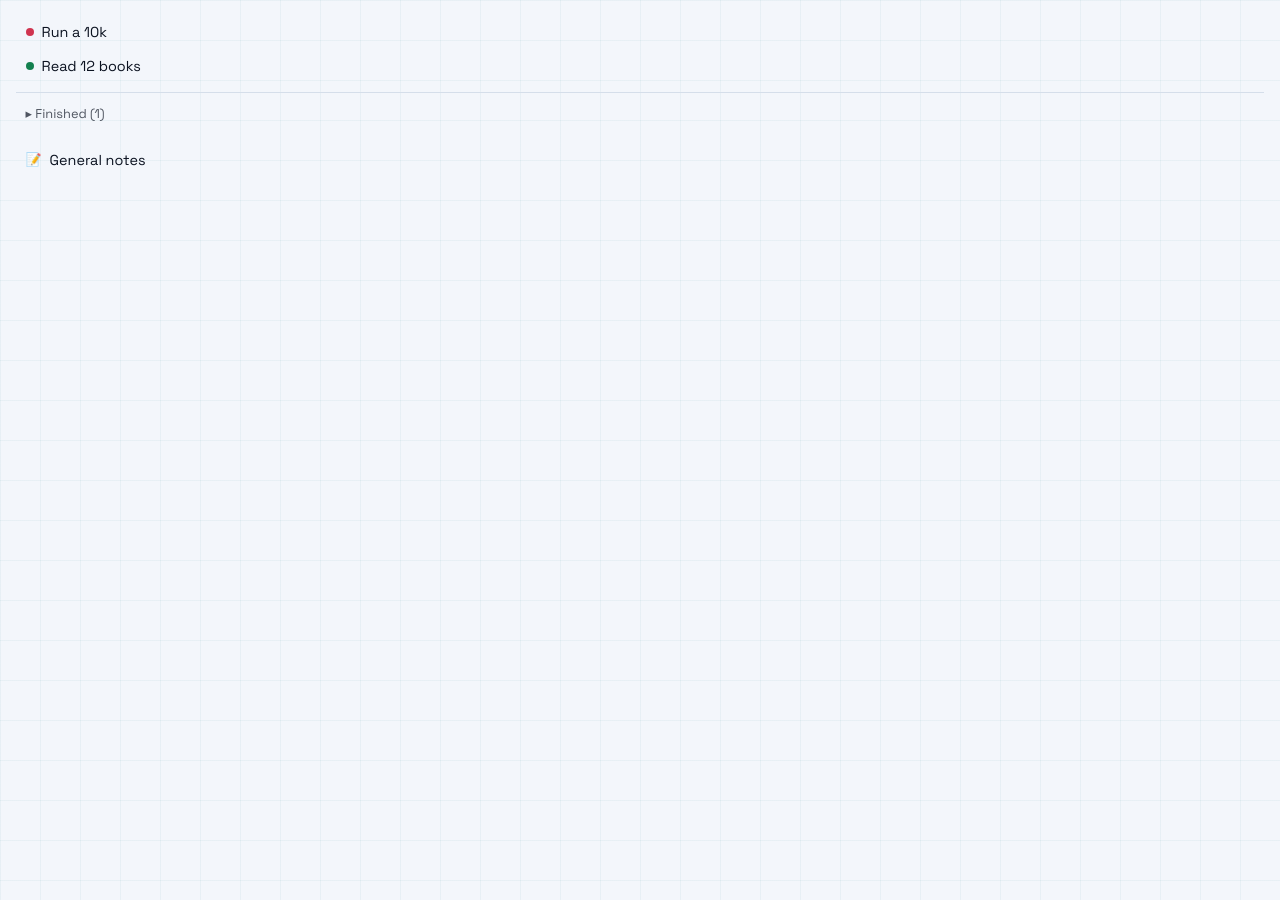
Test: NotesPage on a phone › shows only the list until an item is picked
Click the button with class "notes-item" showing "Read 12 books": point(91, 66) [16, 50, 1264, 82]
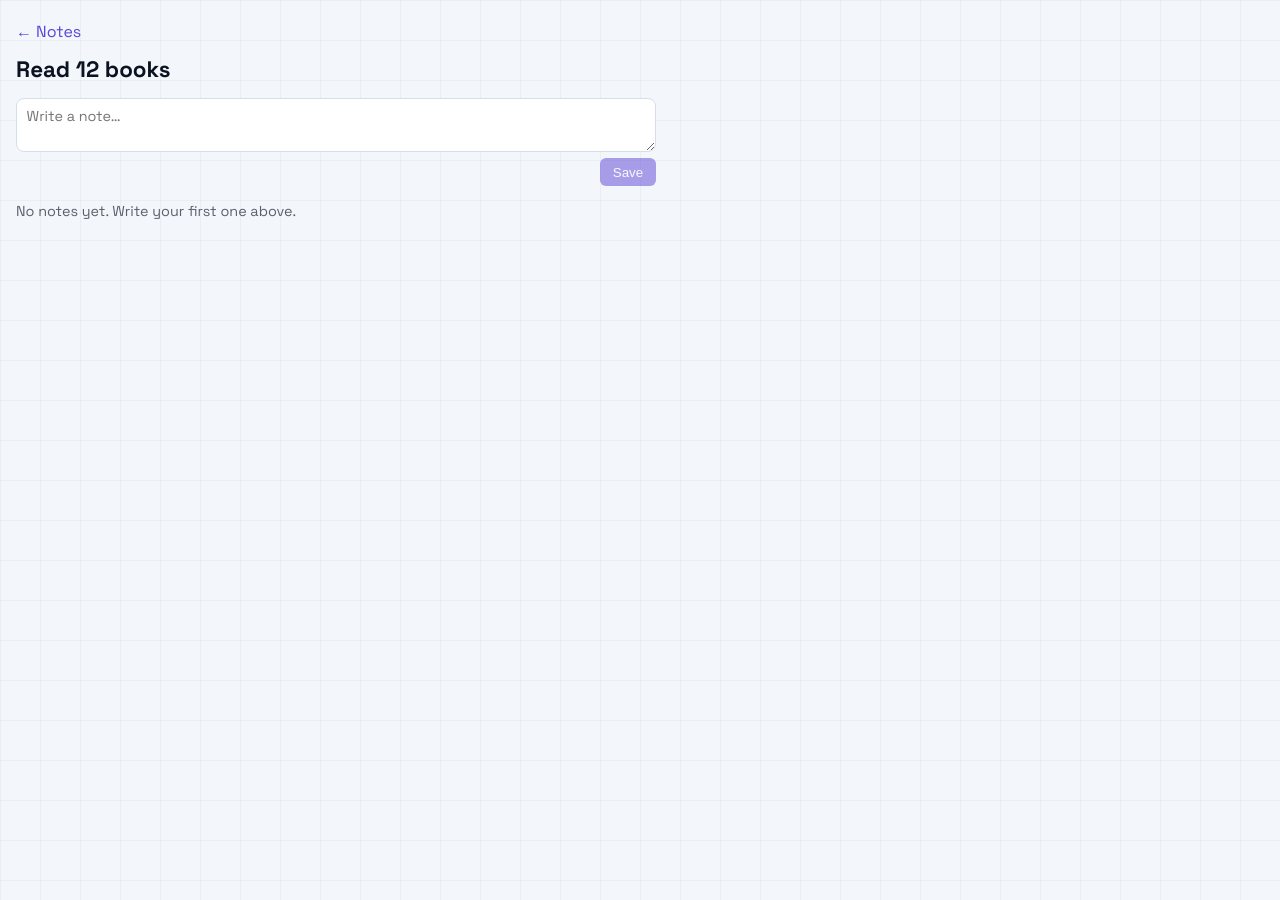
Expected: the heading with class "notes-panel-title" reads "Read 12 books", [16, 55, 171, 84]
Now the navigation bar with class "notes-list" is gone
